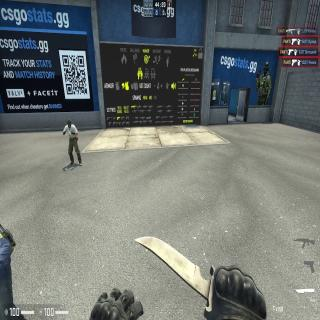T-Body: (66, 119, 78, 165)
T-Head: (67, 119, 71, 128)
